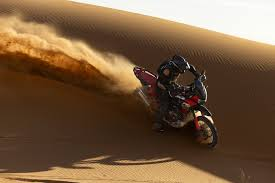motorcycle: (129, 65, 220, 146)
